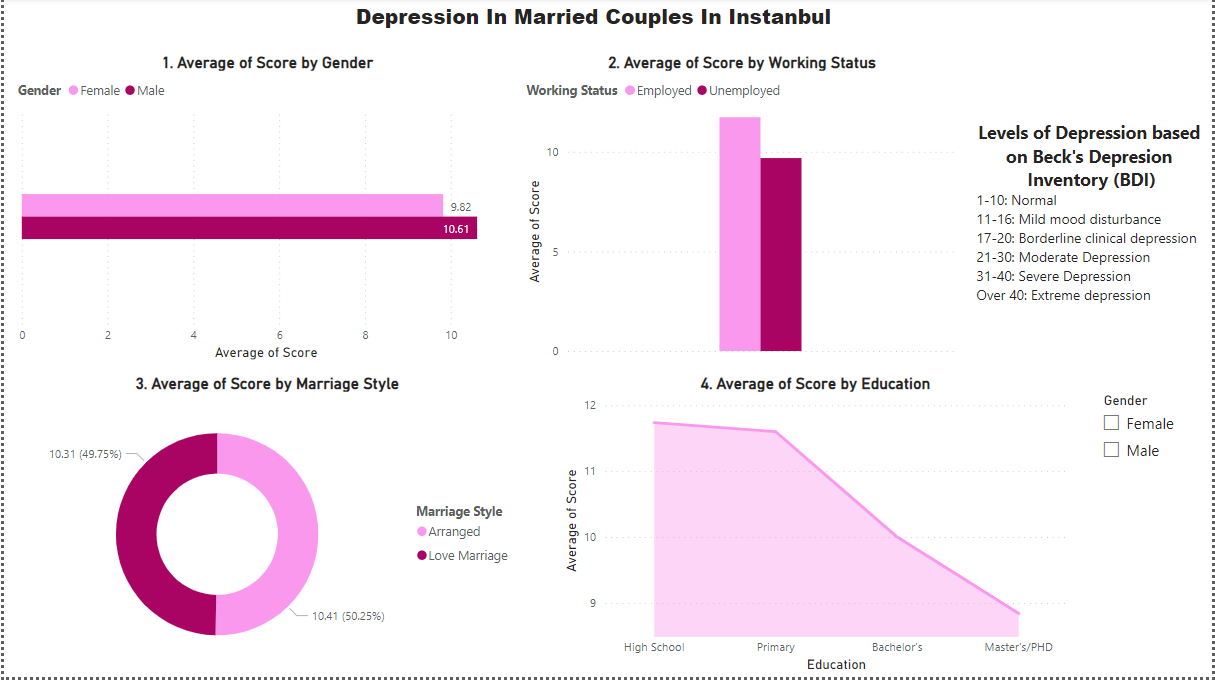

The dashboard page shown, as its layout file describes it:
{"tool":"powerbi","page":{"name":"Page 1","canvas":[1280,720],"ordinal":0},"visuals":[{"type":"clusteredBarChart","title":"1. Average of Score by Gender","fields":{"Series":["Dataset 1 (2).Gender"],"Y":["Avg(Dataset 1 (2).Score)"]},"box":[9.5,58.8,538.8,330.6],"z":0},{"type":"donutChart","title":"3. Average of Score by Marriage Style","fields":{"Category":["Dataset 1 (2).Marriage Style"],"Y":["Avg(Dataset 1 (2).Score)"]},"box":[10,399,539,321],"z":1000},{"type":"stackedAreaChart","title":"4. Average of Score by Education","fields":{"Category":["Dataset 1 (2).Education"],"Y":["Avg(Dataset 1 (2).Score)"]},"box":[588.1,398.9,543.6,321.1],"z":2000},{"type":"clusteredColumnChart","title":"2. Average of Score by Working Status","fields":{"Series":["Dataset 1 (2).Working Status"],"Y":["Avg(Dataset 1 (2).Score)"]},"box":[548.3,58.8,467.3,330.6],"z":3000},{"type":"textbox","box":[1025.2,125.6,254.3,235.2],"z":5000},{"type":"textbox","box":[332.2,0,584.9,42.9],"z":6000},{"type":"slicer","fields":{"Values":["Dataset 1 (2).Gender"]},"box":[1152.3,413.2,111.3,90.6],"z":10000}]}

Visuals, with their boxes in screenshot pixels (x1, y1, x2, y2), scaled from the page's 1280x720 canvas onto the 1215x681 screenshot:
"1. Average of Score by Gender" clusteredBarChart: bbox=[9, 56, 520, 368]
"3. Average of Score by Marriage Style" donutChart: bbox=[9, 377, 521, 680]
"4. Average of Score by Education" stackedAreaChart: bbox=[558, 377, 1074, 680]
"2. Average of Score by Working Status" clusteredColumnChart: bbox=[520, 56, 964, 368]
textbox: bbox=[973, 119, 1214, 341]
textbox: bbox=[315, 0, 871, 41]
slicer - Dataset 1 (2).Gender: bbox=[1094, 391, 1199, 477]
